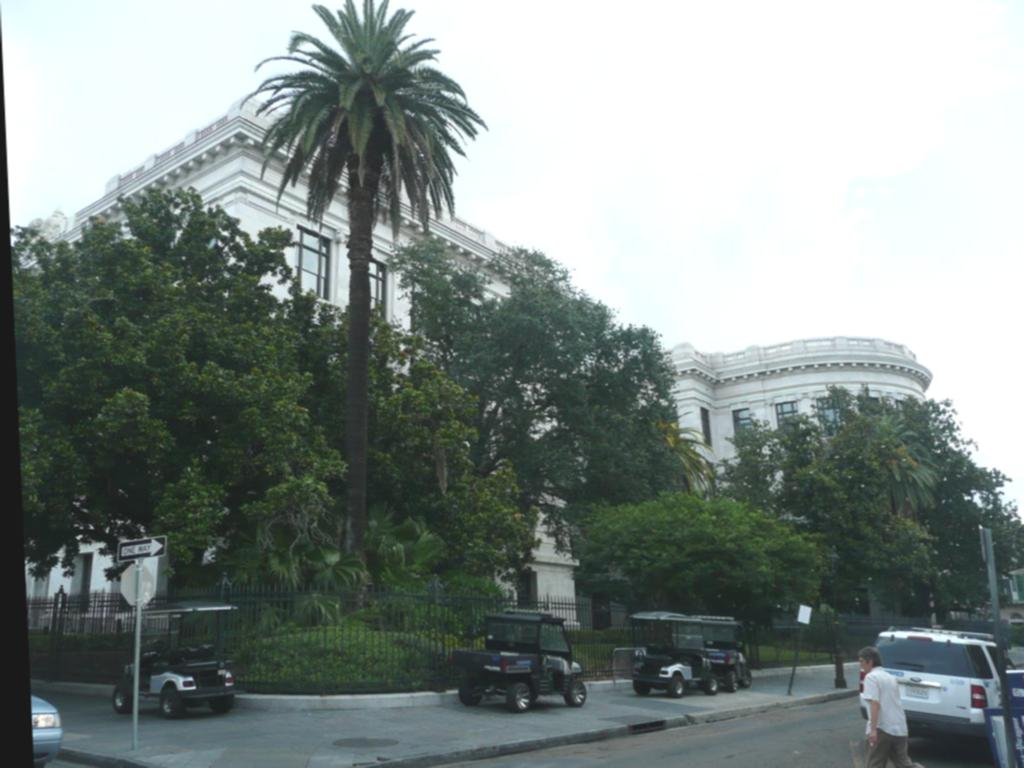License_Plate: (902, 681, 930, 700)
